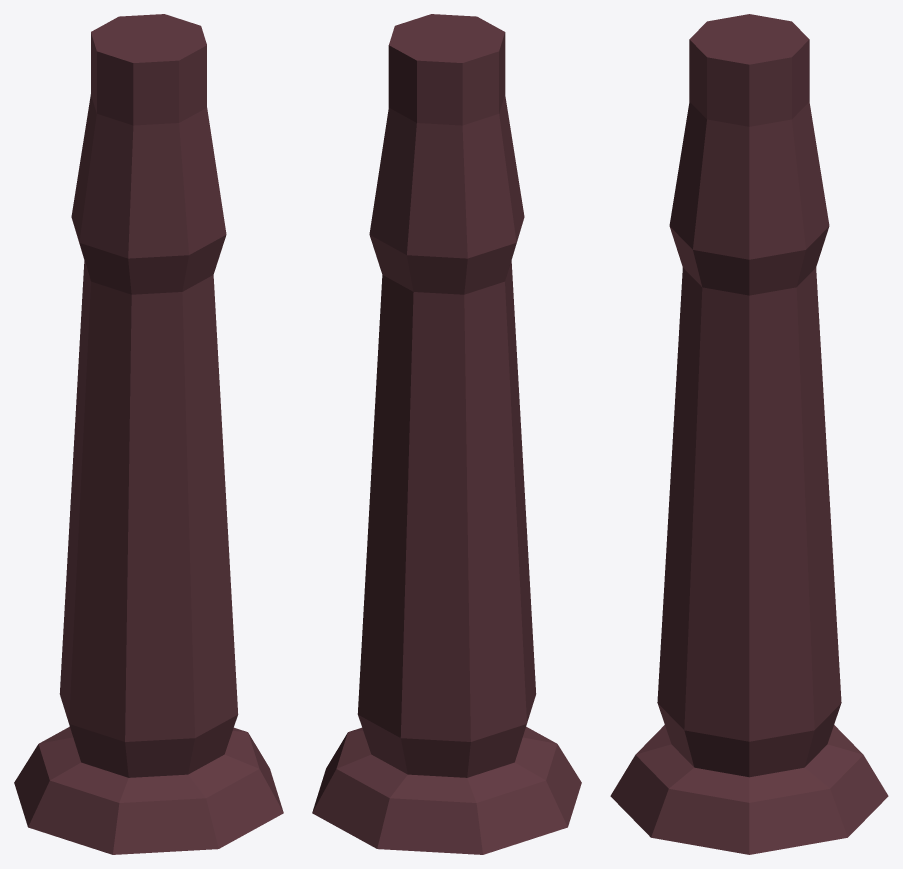
The model's file is egypt-egypt-pillar-papyrus.glb.
3 renders of one model, left to right at view 1: azimuth 30°, elevation 25°; view 2: azimuth 150°, elevation 25°; view 3: azimuth 270°, elevation 25°, orthographic.
Visible parts, largest first — view 1: pillar-papyrus; view 2: pillar-papyrus; view 3: pillar-papyrus.
Boxes of the visible parts, x1,y1,x2,y2 form: pillar-papyrus: (14, 14, 283, 854); pillar-papyrus: (312, 14, 581, 854); pillar-papyrus: (610, 14, 888, 854).
Size of the model in its own units: 3 by 9 by 3.
